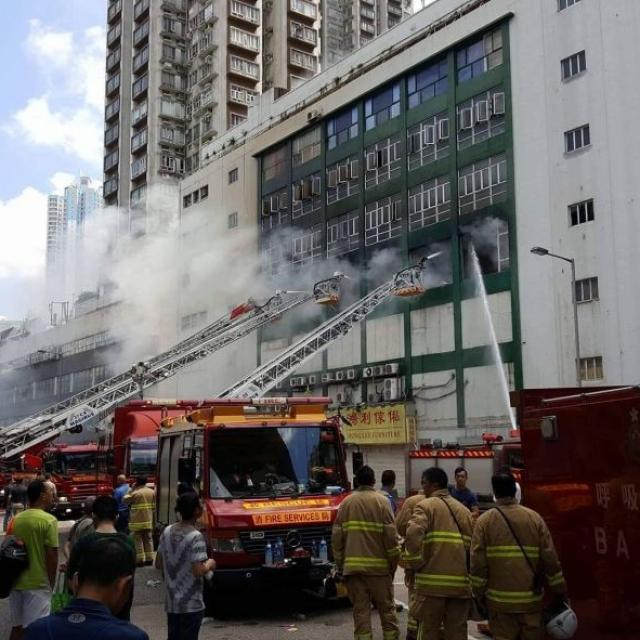Smoke: (13, 186, 394, 402)
